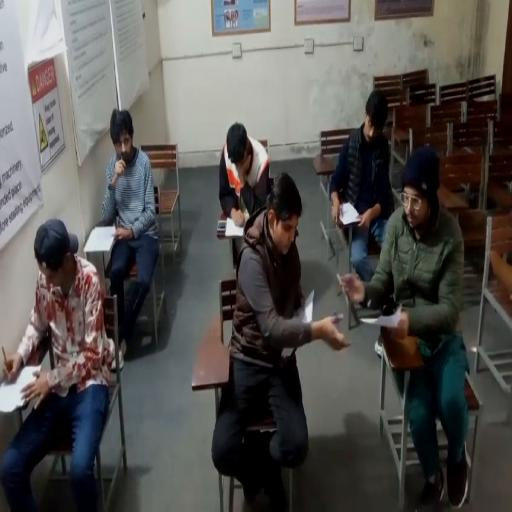paper: (287, 288, 330, 354), (0, 364, 40, 412), (84, 226, 118, 254), (370, 306, 404, 328), (218, 217, 246, 237), (339, 202, 361, 226)
